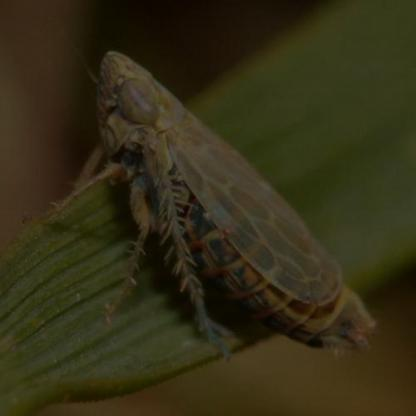green-leafhopper: (80, 48, 367, 357)
